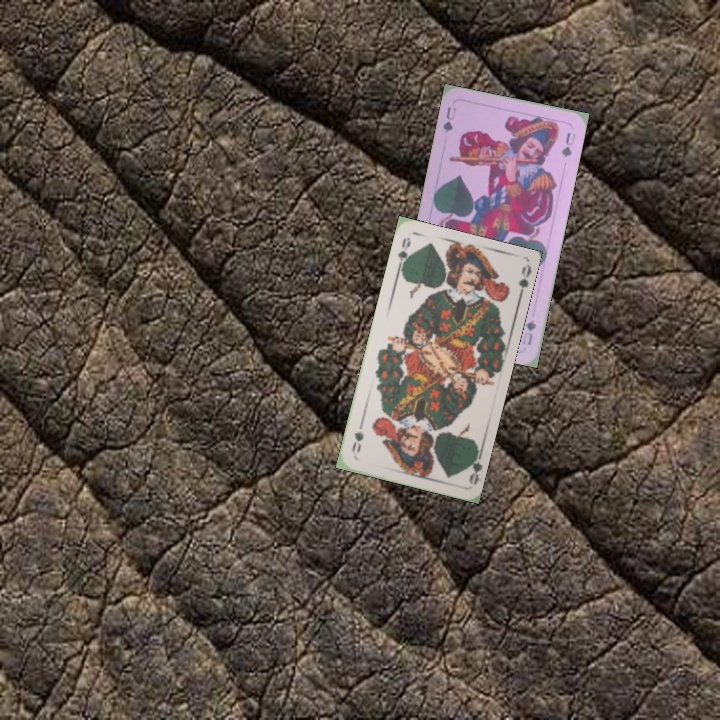GO: (463, 445, 485, 486), (393, 233, 413, 274)
GU: (439, 103, 459, 136), (518, 316, 539, 347)
